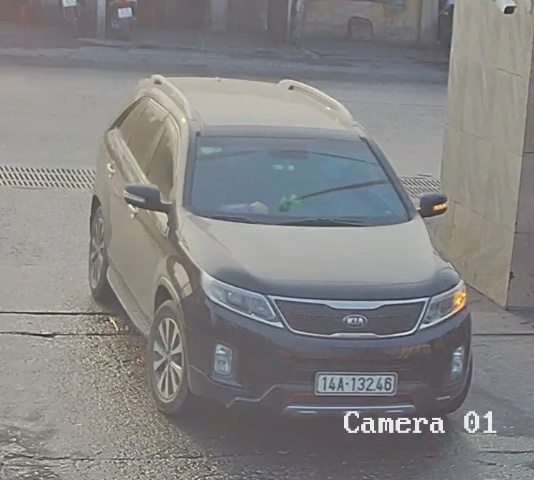vehicle plate: (310, 369, 402, 396)
